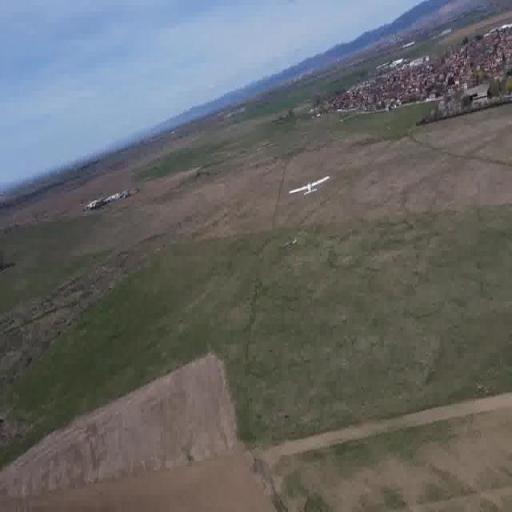uav: (286, 171, 332, 203)
